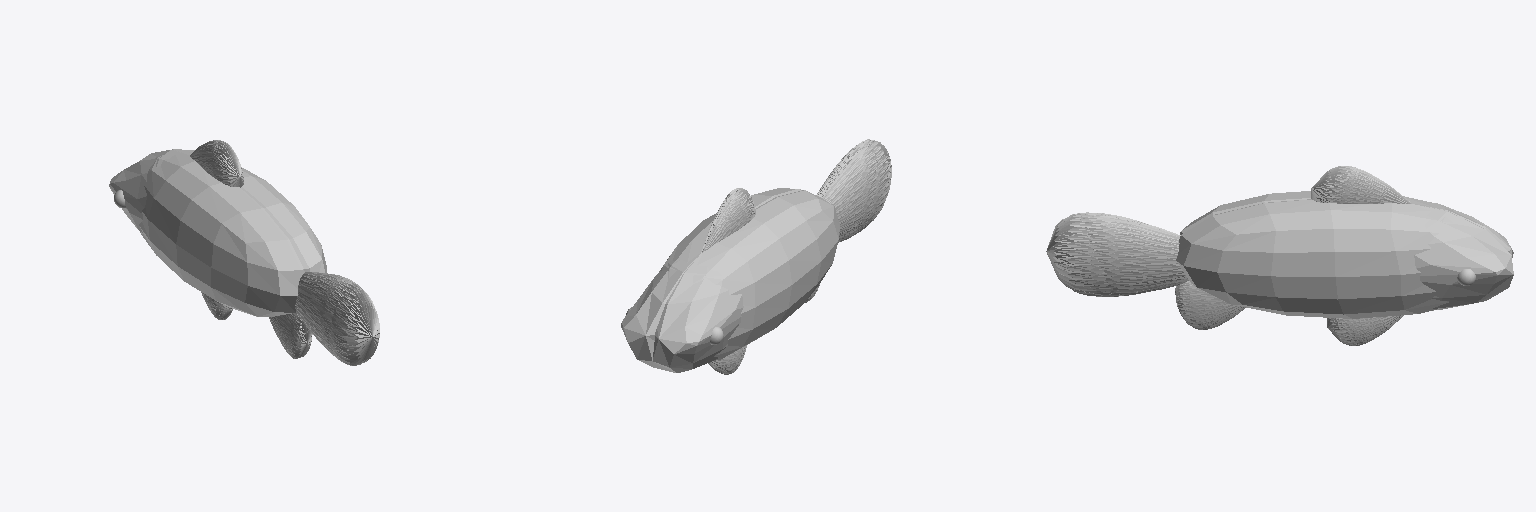
Rendered from fish.obj.
3 renders of one model, left to right at view 1: azimuth 30°, elevation 25°; view 2: azimuth 150°, elevation 25°; view 3: azimuth 270°, elevation 25°, orthographic.
Parts seen in each view (by area): view 1: Cube; view 2: Cube; view 3: Cube.
Part boxes in pixels (left/top/right/bottom): Cube: left=109, top=140, right=379, bottom=365; Cube: left=621, top=139, right=891, bottom=374; Cube: left=1046, top=166, right=1513, bottom=345.
Size of the model in its own units: 0.3468 by 0.573 by 1.35.